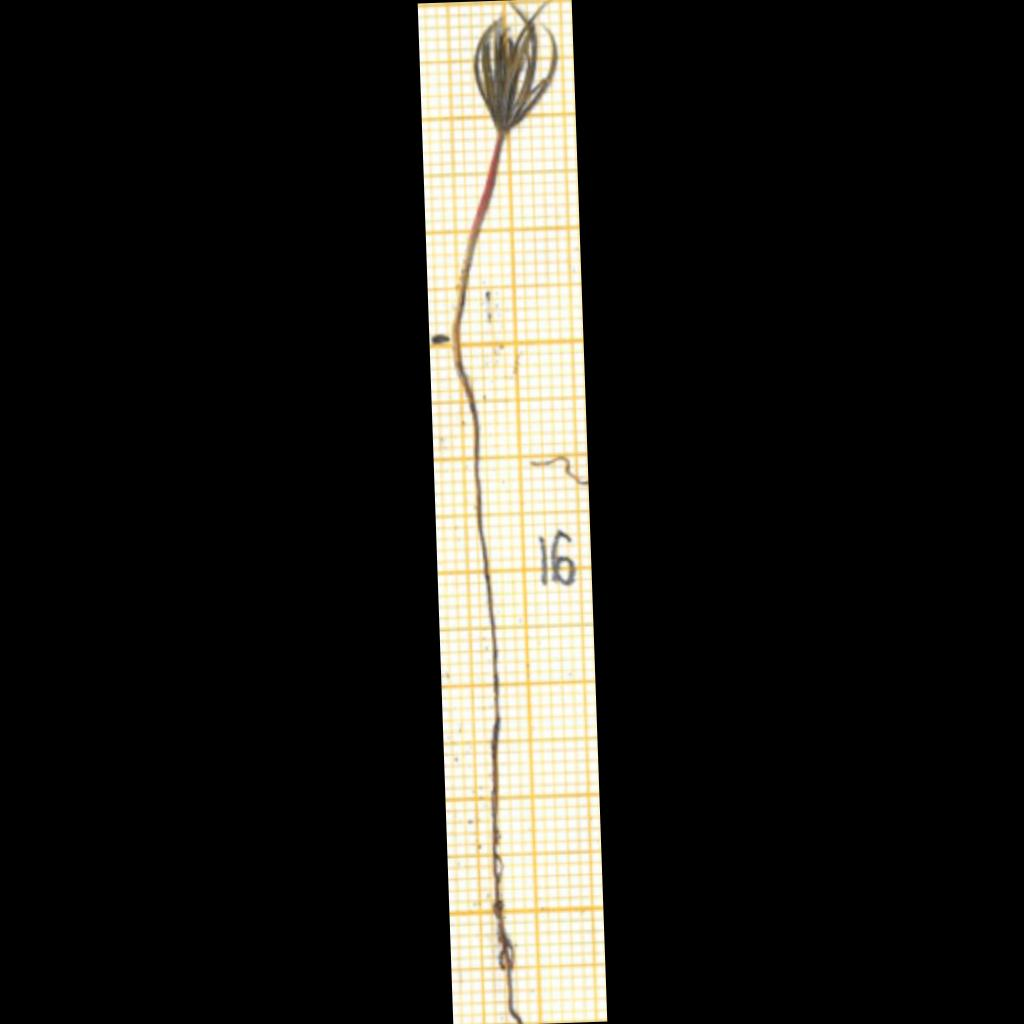flowerPinus: (474, 11, 557, 137)
rootPinus: (454, 354, 520, 1023)
stemPinus: (451, 134, 502, 357)
